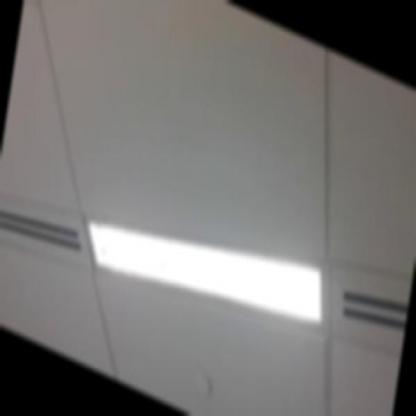light_on: (69, 148, 339, 380)
